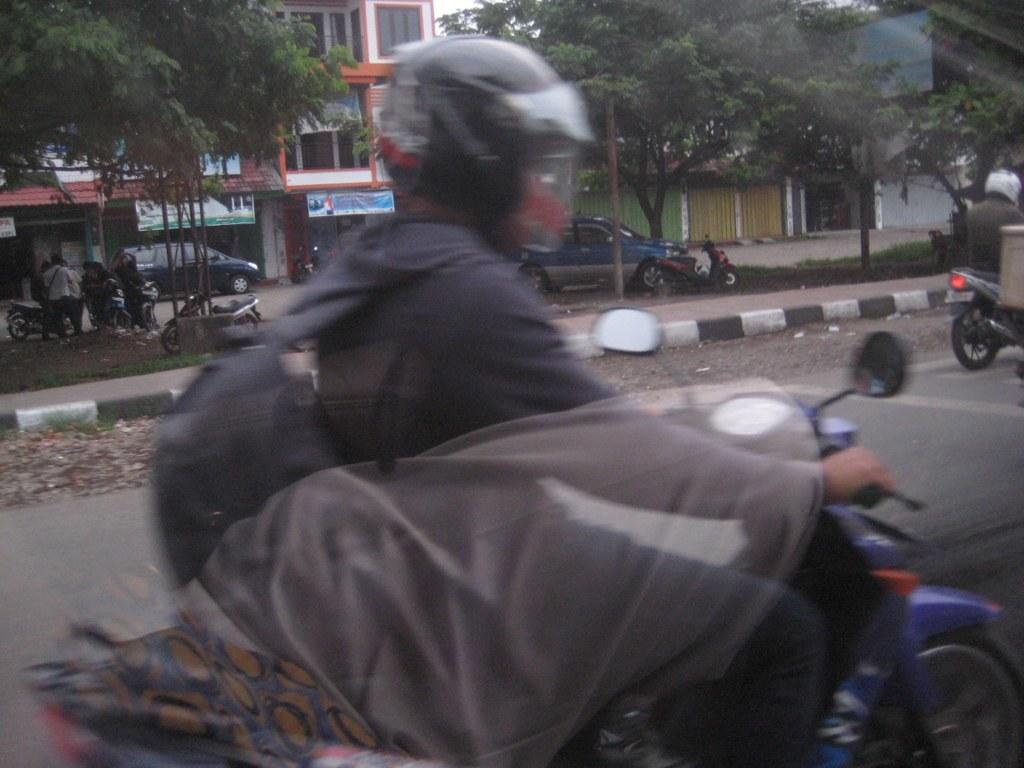helmet: (378, 35, 597, 253), (984, 169, 1022, 208)
